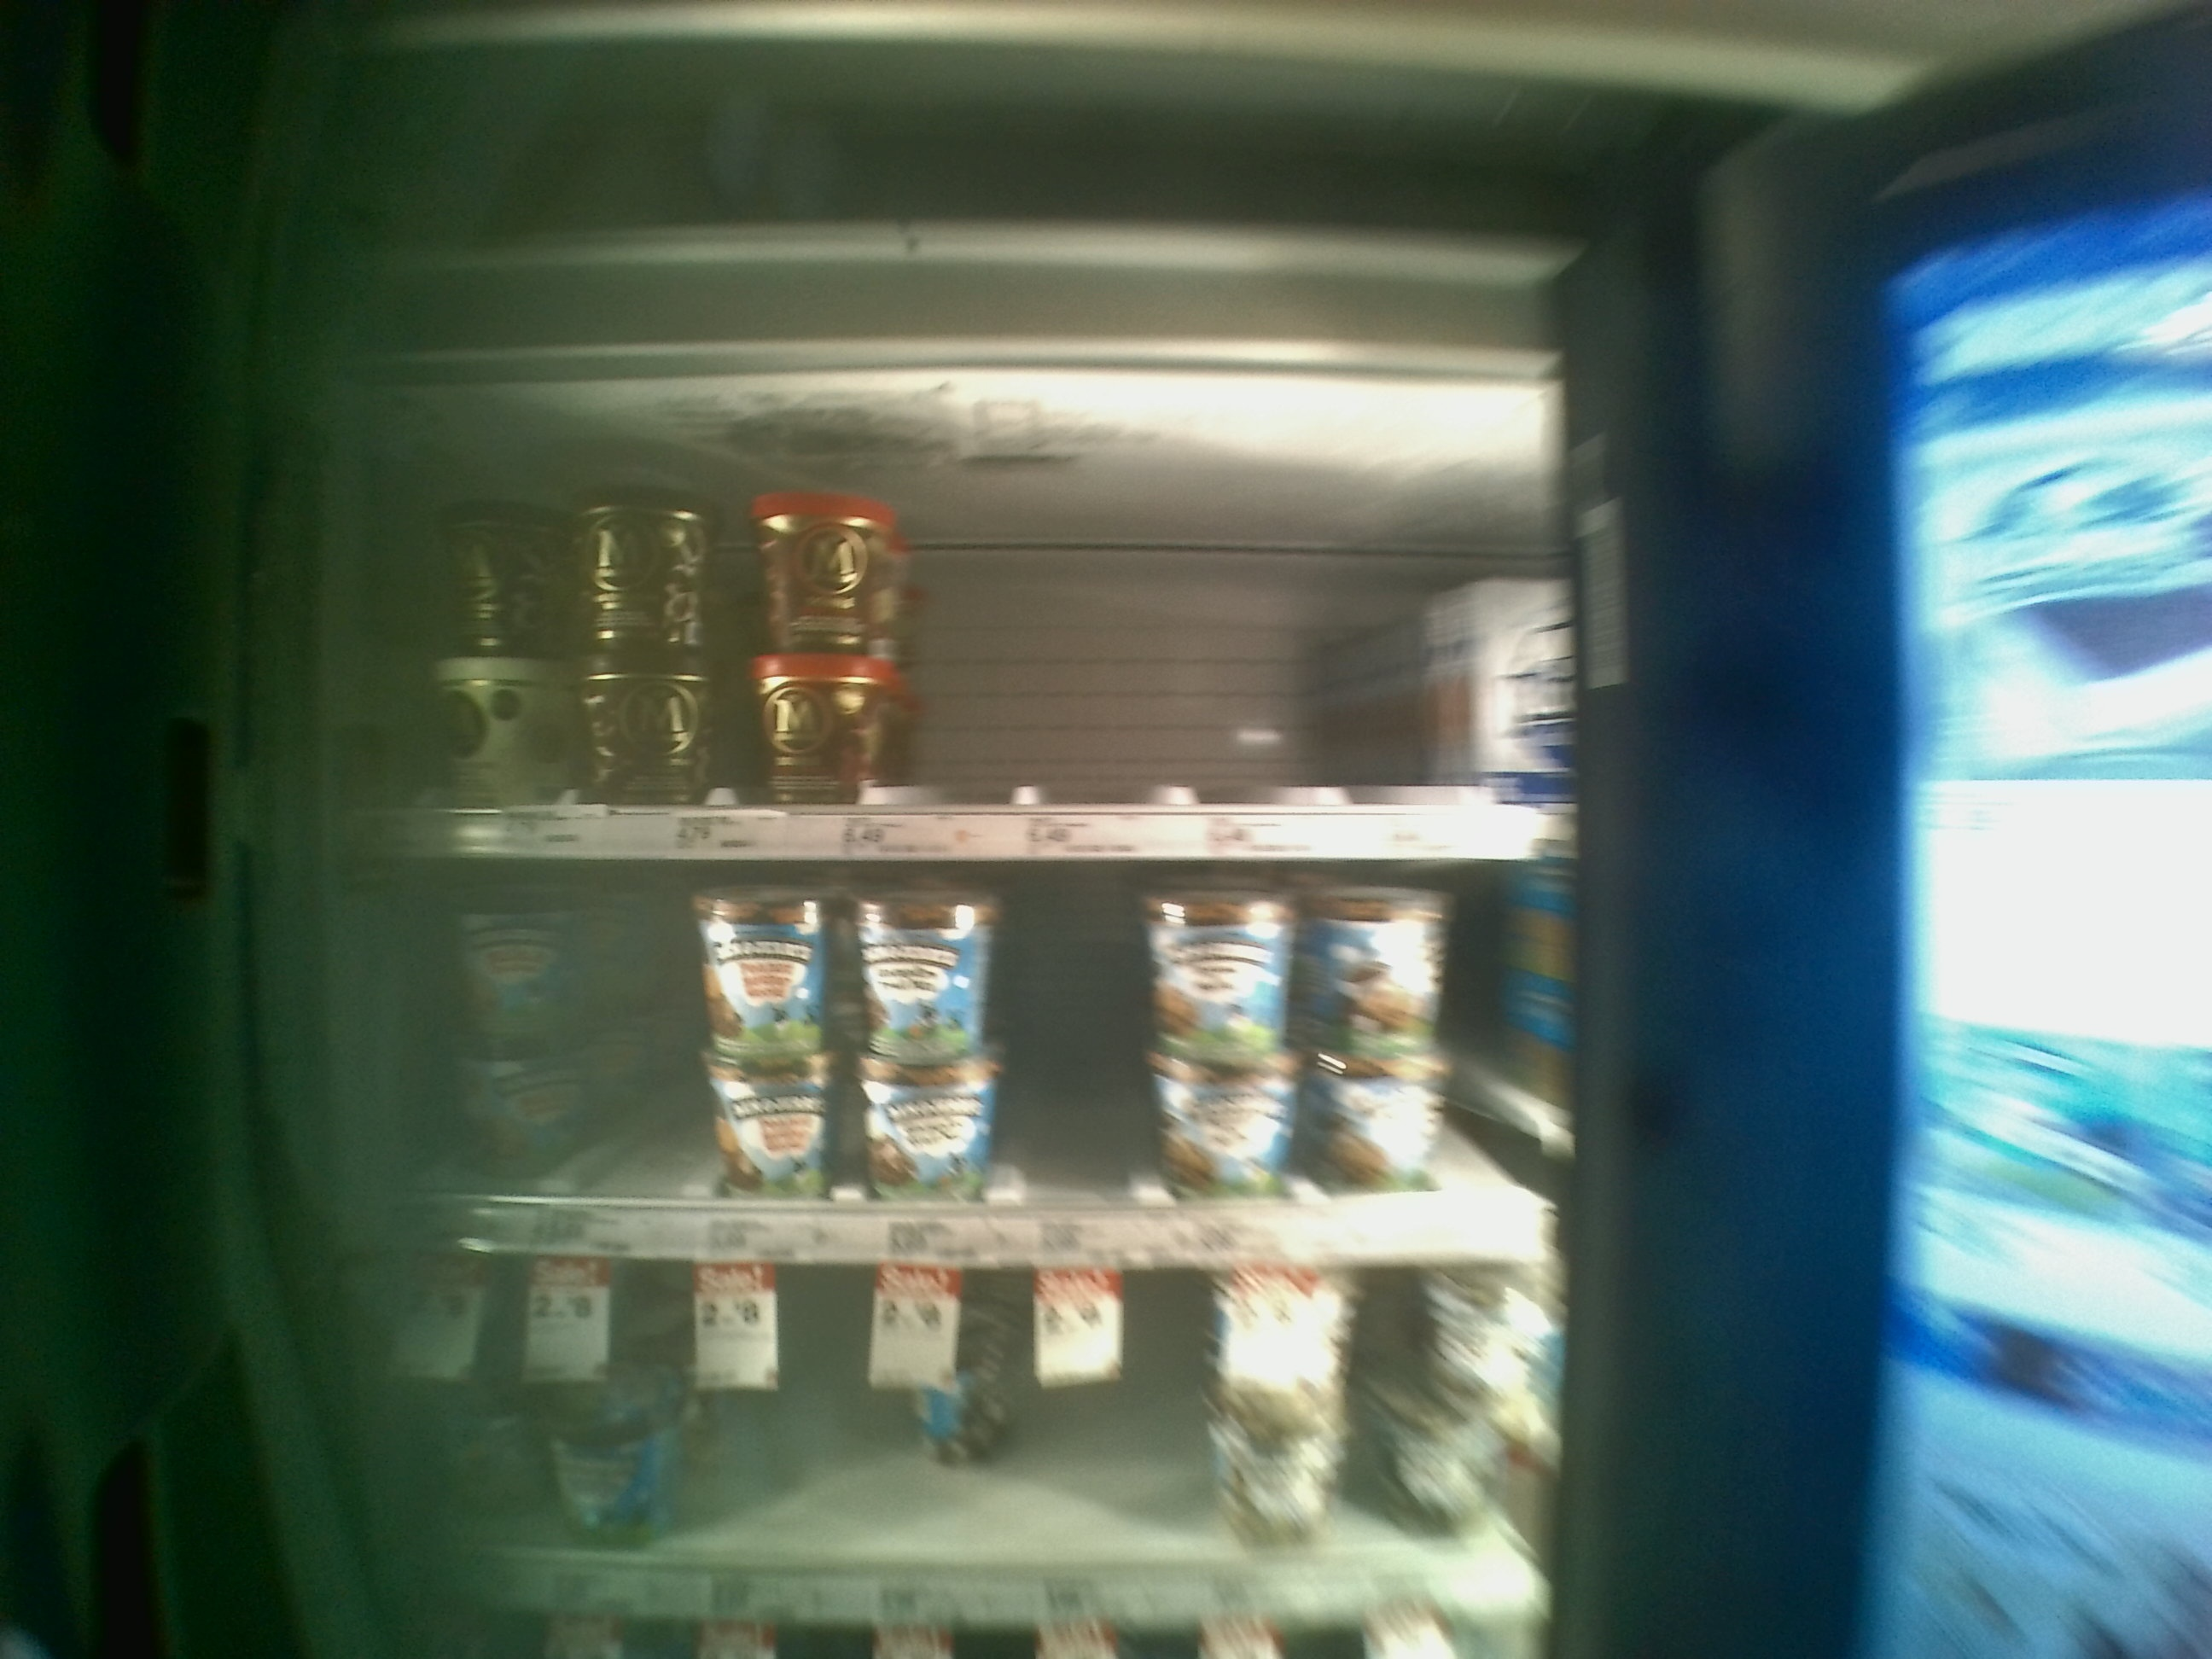shelf: (394, 416, 1564, 854), (388, 852, 1578, 1274)
